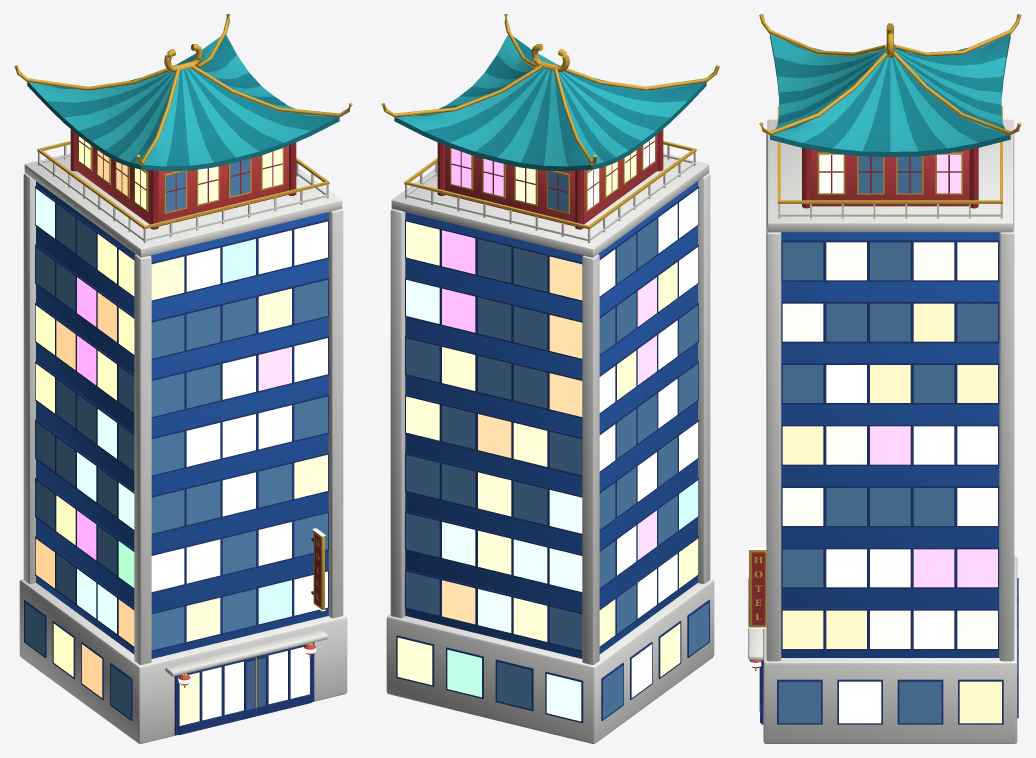
Rendered from predio_vidro_coroa_jade.glb.
3 views of the same model, side by side, from view 1: azimuth 30°, elevation 25°; view 2: azimuth 150°, elevation 25°; view 3: azimuth 270°, elevation 25° (orthographic). The views are drawn at different scales.
Visible parts, largest first — view 1: predio_vidro_coroa_jade; view 2: predio_vidro_coroa_jade; view 3: predio_vidro_coroa_jade.
Part boxes in pixels (x1,y1,x2,y2): predio_vidro_coroa_jade: (14,14,352,743); predio_vidro_coroa_jade: (381,14,719,743); predio_vidro_coroa_jade: (748,14,1021,743).
Size of the model in its own units: 12.36 by 34.49 by 12.89.
Materials: 10 (2 with a texture image).
